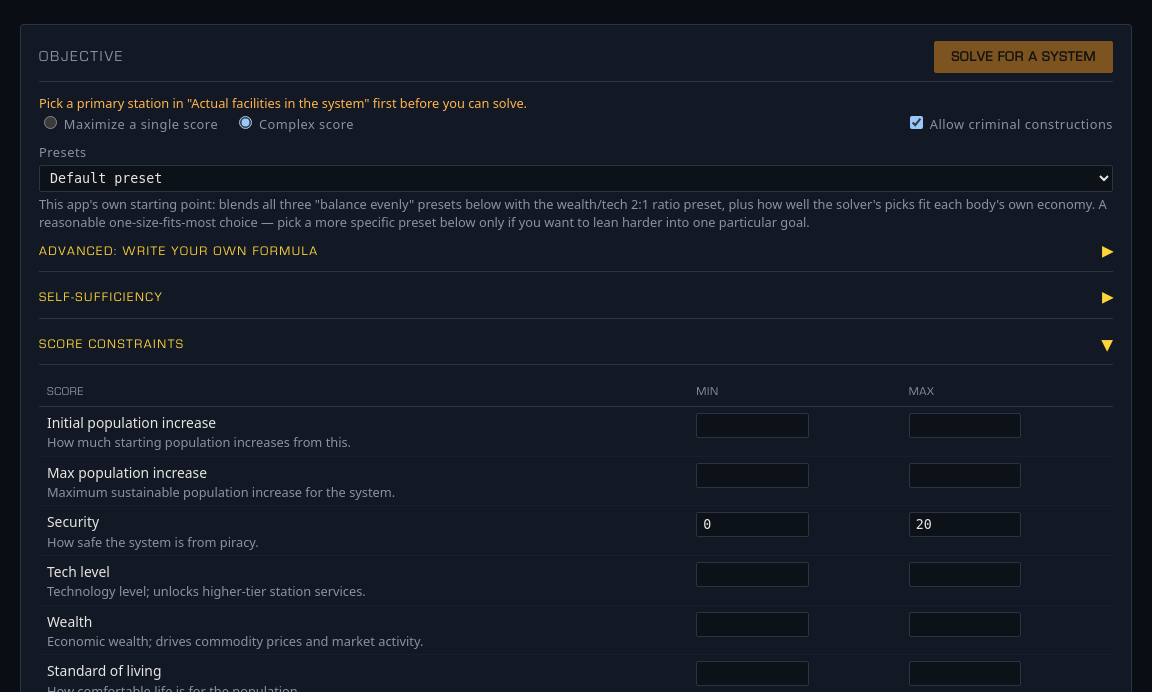
it: ObjectivePanel's Self-sufficiency section › shows an explanatory hint and no checkboxes once manually expanded with no per-body layout applied
Click the button "Self-sufficiency ▾" at (101, 298), box [39, 286, 1113, 319]
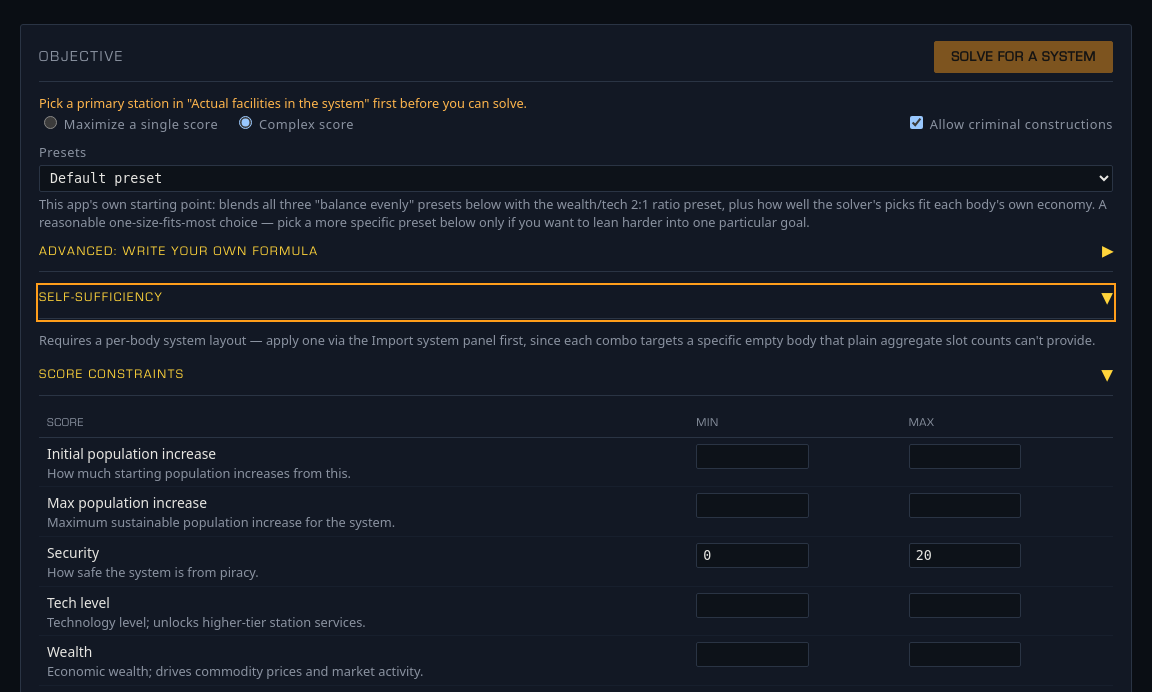
Result: the text "Requires a per-body system layout" is shown at [39, 331, 1095, 349]
